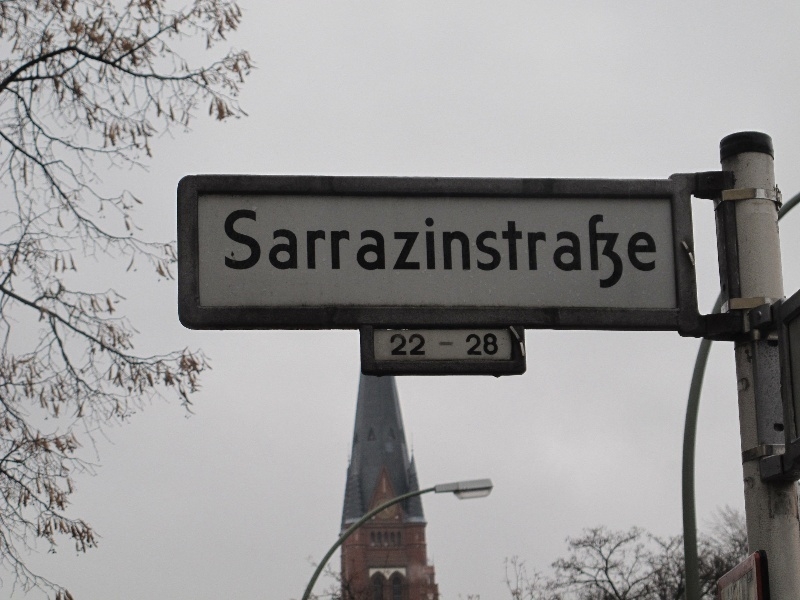text: (225, 210, 240, 293), (241, 210, 256, 293), (257, 210, 272, 293), (273, 210, 288, 293), (289, 210, 304, 293), (305, 210, 320, 293), (321, 210, 336, 293), (337, 210, 352, 293), (353, 210, 368, 293), (369, 210, 384, 293), (385, 210, 400, 293), (401, 210, 416, 293), (417, 210, 432, 293), (433, 210, 448, 293), (449, 210, 464, 293), (465, 210, 480, 293), (481, 210, 496, 293), (497, 210, 512, 293), (513, 210, 528, 293), (529, 210, 544, 293), (545, 210, 560, 293), (561, 210, 576, 293), (577, 210, 592, 293), (593, 210, 608, 293), (609, 210, 624, 293), (625, 210, 640, 293), (641, 210, 656, 293), (401, 334, 416, 357), (481, 334, 496, 356), (466, 334, 480, 356), (391, 334, 400, 357), (417, 334, 426, 357), (657, 210, 658, 293), (440, 342, 448, 346), (497, 334, 498, 356), (449, 342, 453, 346)
